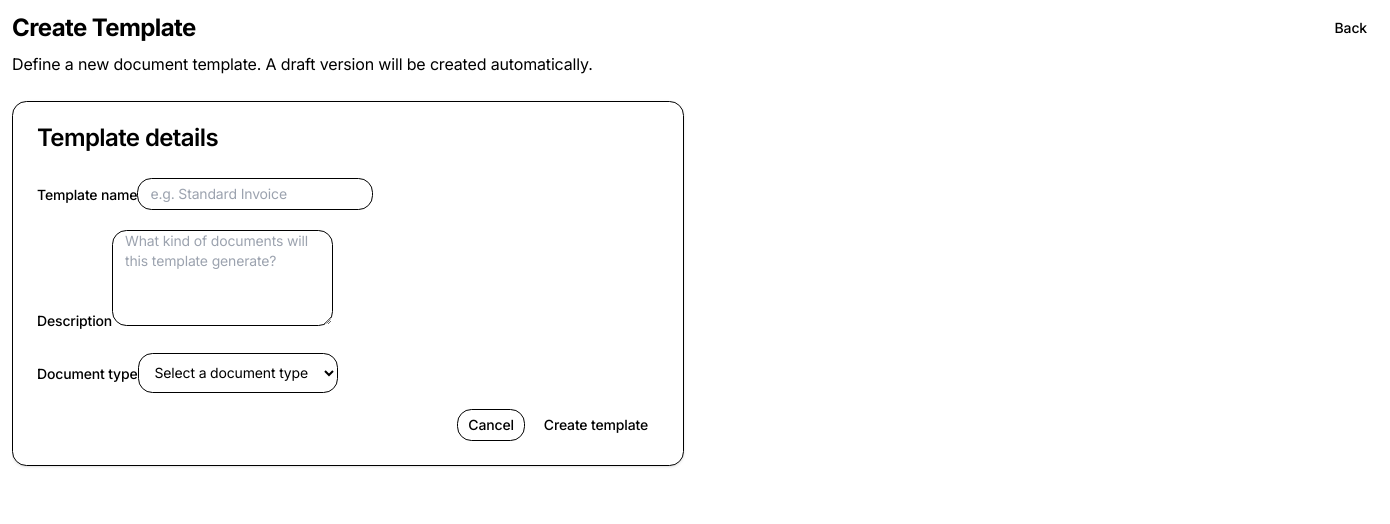
it: Create template page › shows validation errors when submitting an empty form
Click the button "Create template": (596, 425) [533,409,659,441]
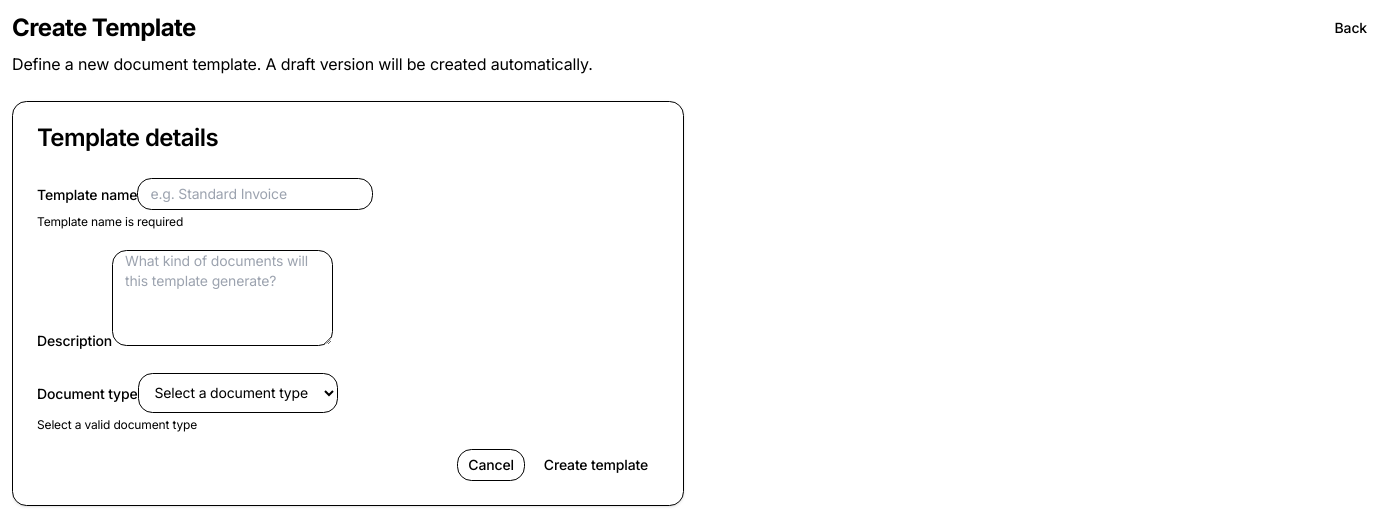
Expected: the text "Template name is required" is shown, [37,214,183,229]
Expected: the text "Select a valid document type" is shown, [37,417,197,432]
